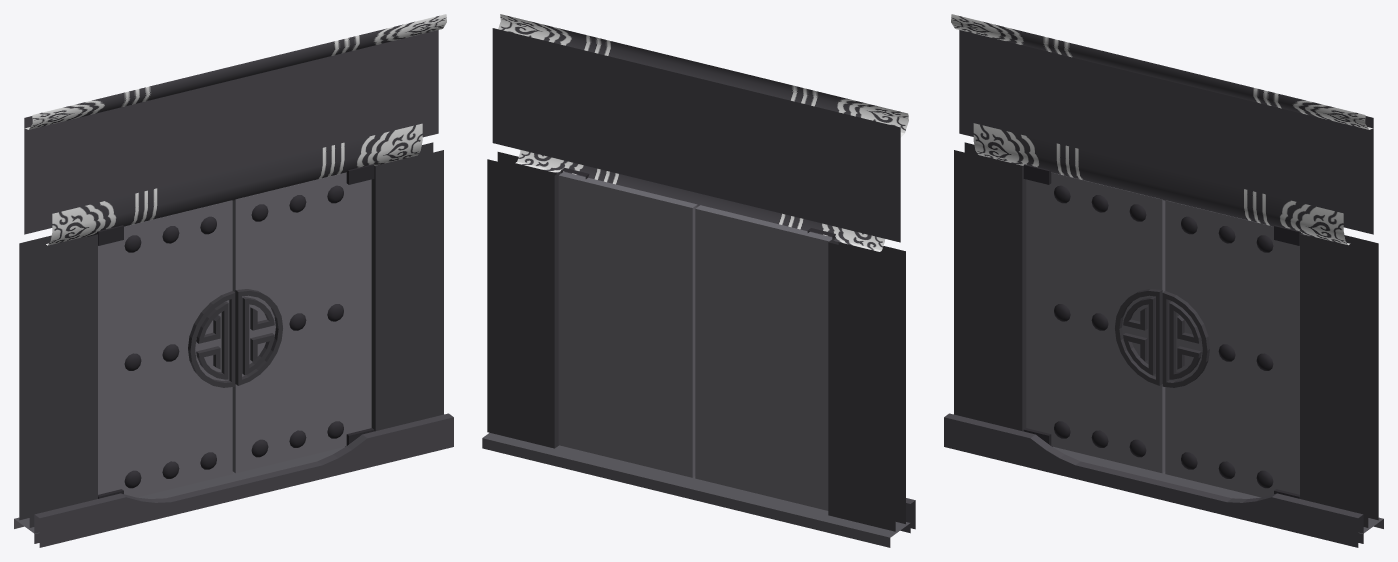
Rendered from doortest.fbx.
The picture shows the model from 3 angles, left to right: view 1: azimuth 30°, elevation 25°; view 2: azimuth 150°, elevation 25°; view 3: azimuth 330°, elevation 25°; orthographic projection.
Parts seen in each view (by area): view 1: Door_frame, Door_Right, Door_Left; view 2: Door_frame, Door_Right, Door_Left; view 3: Door_frame, Door_Left, Door_Right.
Boxes of the visible parts, x1=… form: Door_frame: x1=14, y1=14, x2=453, y2=547; Door_Right: x1=232, y1=164, x2=374, y2=473; Door_Left: x1=96, y1=200, x2=235, y2=498; Door_frame: x1=482, y1=14, x2=915, y2=547; Door_Right: x1=558, y1=167, x2=697, y2=477; Door_Left: x1=695, y1=205, x2=835, y2=510; Door_frame: x1=944, y1=14, x2=1383, y2=547; Door_Left: x1=1023, y1=164, x2=1165, y2=473; Door_Right: x1=1162, y1=200, x2=1301, y2=498.
Bounding box in the file's own units: 1375 × 1356 × 148.
